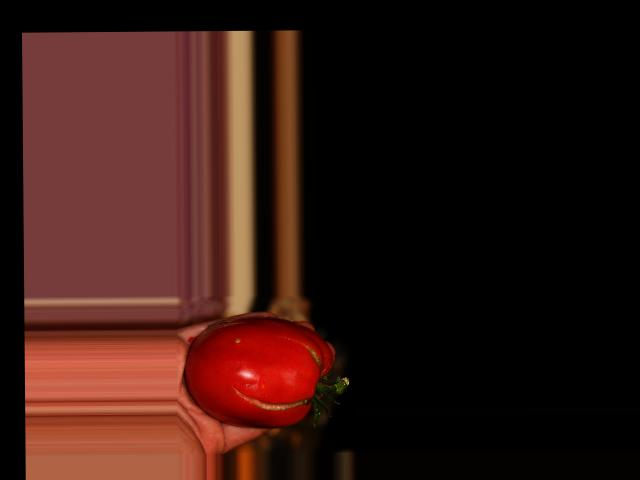tomato: (184, 315, 334, 427)
